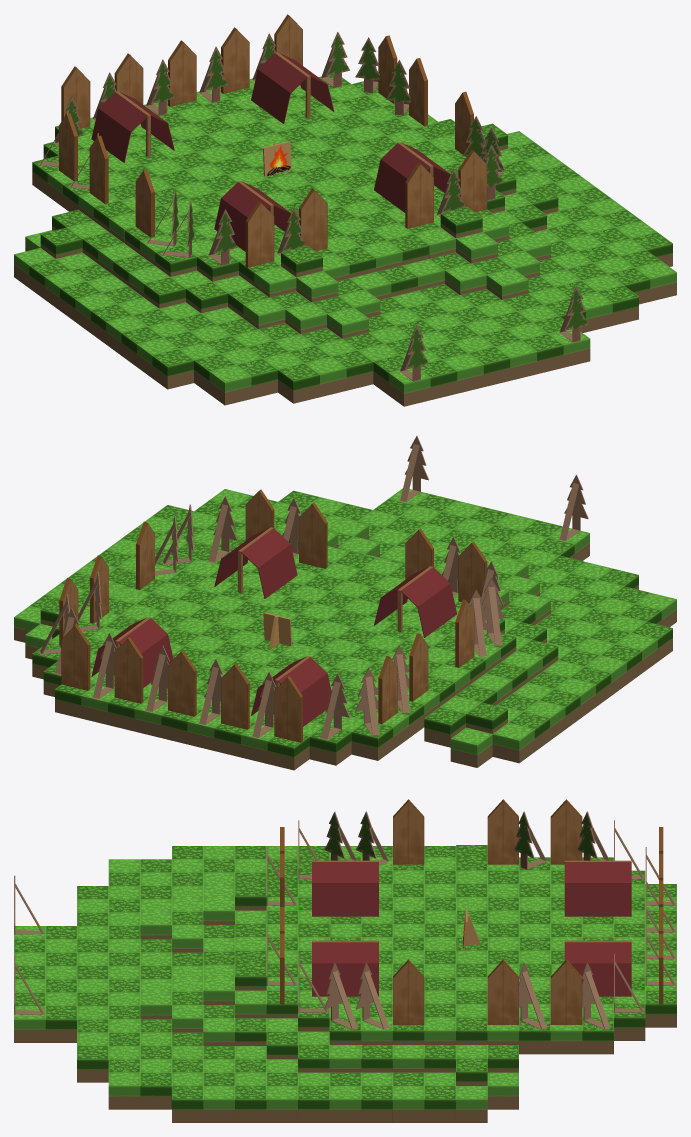
Rendered from Level 3.fbx.
The picture shows the model from 3 angles, top to bottom: view 1: azimuth 30°, elevation 25°; view 2: azimuth 150°, elevation 25°; view 3: azimuth 270°, elevation 25°; orthographic projection. The views are drawn at different scales.
Visible parts, largest first — view 1: Tent.003, Tent, Tent.001, Tent.002, Fence.017, Fence.012, Fence.015, Fence.013, Fence.009, Fence.016, Level3.216, Level3.223 (+84 smaller); view 2: Tent.002, Tent.001, Tent, Tent.003, Fence.013, Fence.014, Fence.011, Fence.012, Fence.015, Fence.010, Level3.243, Level3.295 (+73 smaller); view 3: Tent, Tent.002, Tent.001, Tent.003, Fence.004, Fence.002, Fence.001, Fence.006, Fence.005, Fence.003, Level3.172, Level3.190 (+54 smaller).
Boxes of the visible parts, box(x1,y1,x2,y2) form: Tent.003: box(251, 52, 334, 123); Tent: box(91, 91, 174, 162); Tent.001: box(374, 142, 450, 212); Tent.002: box(214, 181, 290, 251); Fence.017: box(245, 201, 274, 267); Fence.012: box(405, 162, 433, 228); Fence.015: box(168, 40, 196, 106); Fence.013: box(221, 27, 249, 93); Fence.009: box(458, 149, 487, 212); Fence.016: box(299, 188, 327, 251); Level3.216: box(209, 365, 251, 405); Level3.223: box(152, 349, 193, 389); Tent.002: box(374, 566, 456, 637); Tent.001: box(214, 527, 297, 598); Tent: box(251, 656, 331, 726); Tent.003: box(91, 617, 173, 687); Fence.013: box(114, 637, 143, 703); Fence.014: box(61, 624, 90, 690); Fence.011: box(221, 663, 249, 729); Fence.012: box(299, 502, 327, 568); Fence.015: box(168, 650, 196, 716); Fence.010: box(274, 676, 302, 742); Level3.243: box(492, 723, 534, 763); Level3.295: box(450, 727, 492, 767); Tent: box(564, 860, 631, 916); Tent.002: box(312, 860, 378, 916); Tent.001: box(312, 940, 378, 996); Tent.003: box(564, 940, 631, 996); Fence.004: box(550, 959, 582, 1024); Fence.002: box(393, 799, 424, 864); Fence.001: box(393, 959, 424, 1024); Fence.006: box(487, 959, 518, 1024); Fence.005: box(487, 799, 518, 864); Fence.003: box(550, 799, 582, 864); Level3.172: box(108, 1072, 140, 1109); Level3.190: box(329, 1086, 361, 1122).
Size of the model in its own units: 3800 by 810 by 4200.
